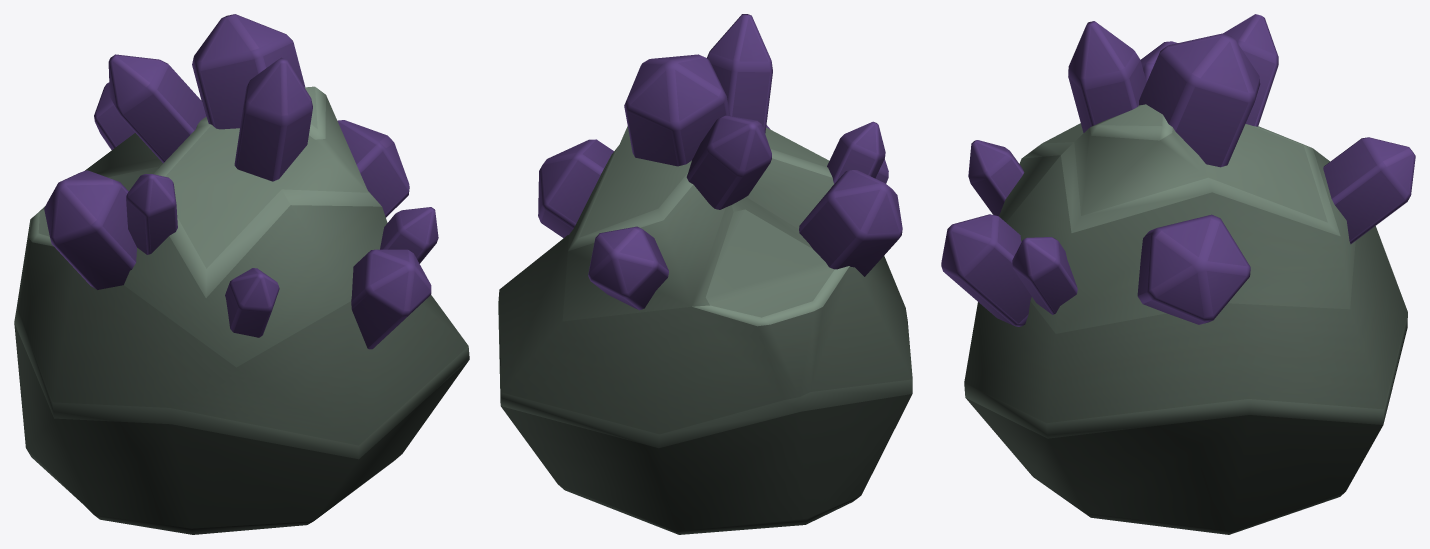
3 renders of one model, left to right at view 1: azimuth 30°, elevation 25°; view 2: azimuth 150°, elevation 25°; view 3: azimuth 270°, elevation 25°, orthographic. The views are drawn at different scales.
Parts seen in each view (by area): view 1: ore_christal_saphire_L_cube_mat_0.001; view 2: ore_christal_saphire_L_cube_mat_0.001; view 3: ore_christal_saphire_L_cube_mat_0.001.
Boxes of the visible parts, <box> form: ore_christal_saphire_L_cube_mat_0.001: <box>14,14,469,534</box>; ore_christal_saphire_L_cube_mat_0.001: <box>498,14,912,534</box>; ore_christal_saphire_L_cube_mat_0.001: <box>941,14,1415,534</box>.
Bounding box in the file's own units: 190 × 232 × 197.
1 material, 1 textured.
